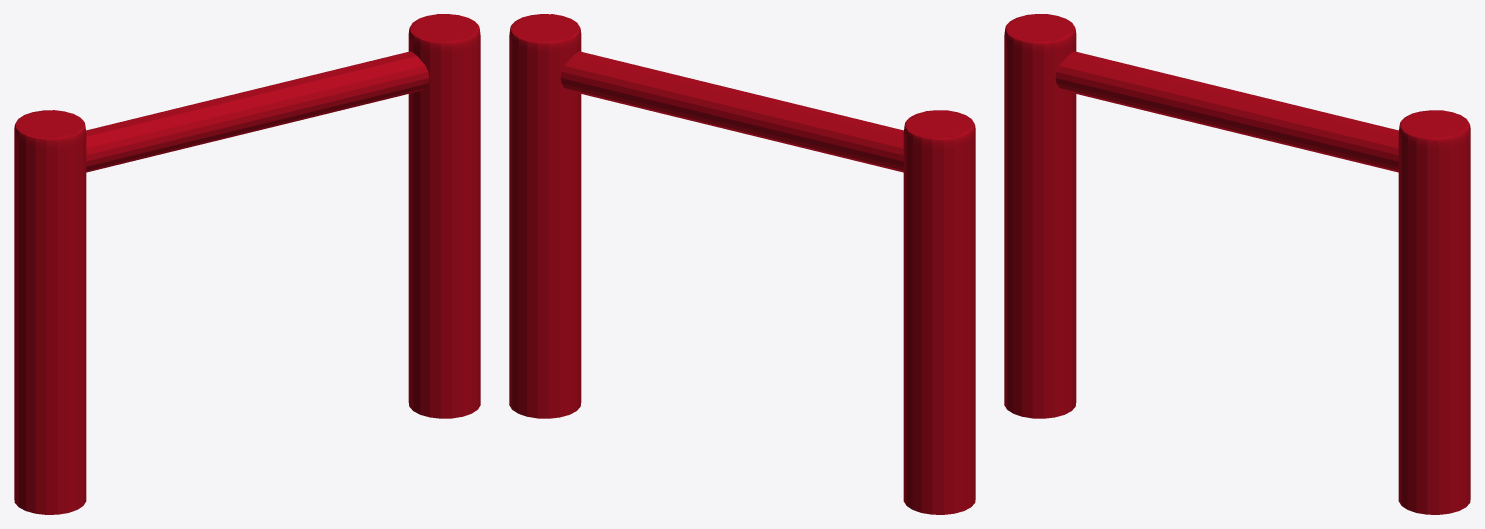
The model's file is Crossbar.fbx.
The picture shows the model from 3 angles, left to right: view 1: azimuth 30°, elevation 25°; view 2: azimuth 150°, elevation 25°; view 3: azimuth 330°, elevation 25°; orthographic projection.
Visible parts, largest first — view 1: Crossbar; view 2: Crossbar; view 3: Crossbar.
Boxes of the visible parts, bbox=[...] form: Crossbar: bbox=[14, 14, 480, 514]; Crossbar: bbox=[509, 14, 975, 514]; Crossbar: bbox=[1004, 14, 1470, 514].
Bounding box in the file's own units: 5.1 × 4 × 0.7.
